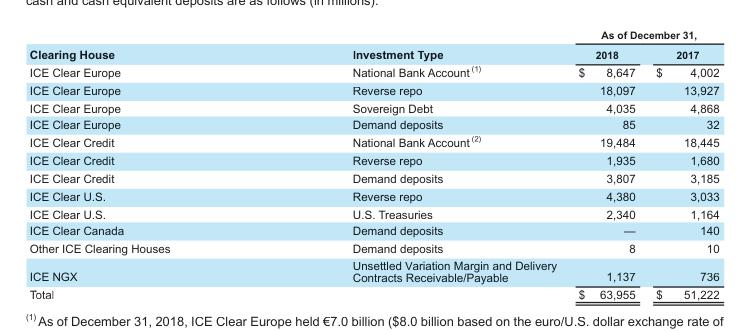table: (28, 29, 718, 300)
table column: (260, 29, 567, 300), (28, 29, 260, 300), (567, 29, 645, 300), (645, 29, 718, 300)
table column header: (28, 29, 718, 62)
table row: (28, 256, 718, 285), (28, 62, 718, 81), (28, 132, 718, 151), (28, 44, 718, 62), (28, 151, 718, 169), (28, 169, 718, 187), (28, 238, 718, 256), (28, 81, 718, 98), (28, 98, 718, 115), (28, 115, 718, 132), (28, 187, 718, 204), (28, 204, 718, 221), (28, 221, 718, 238), (28, 29, 718, 44), (28, 285, 718, 300)
table spanning cell: (260, 29, 567, 62), (28, 29, 260, 62), (567, 29, 718, 44)
